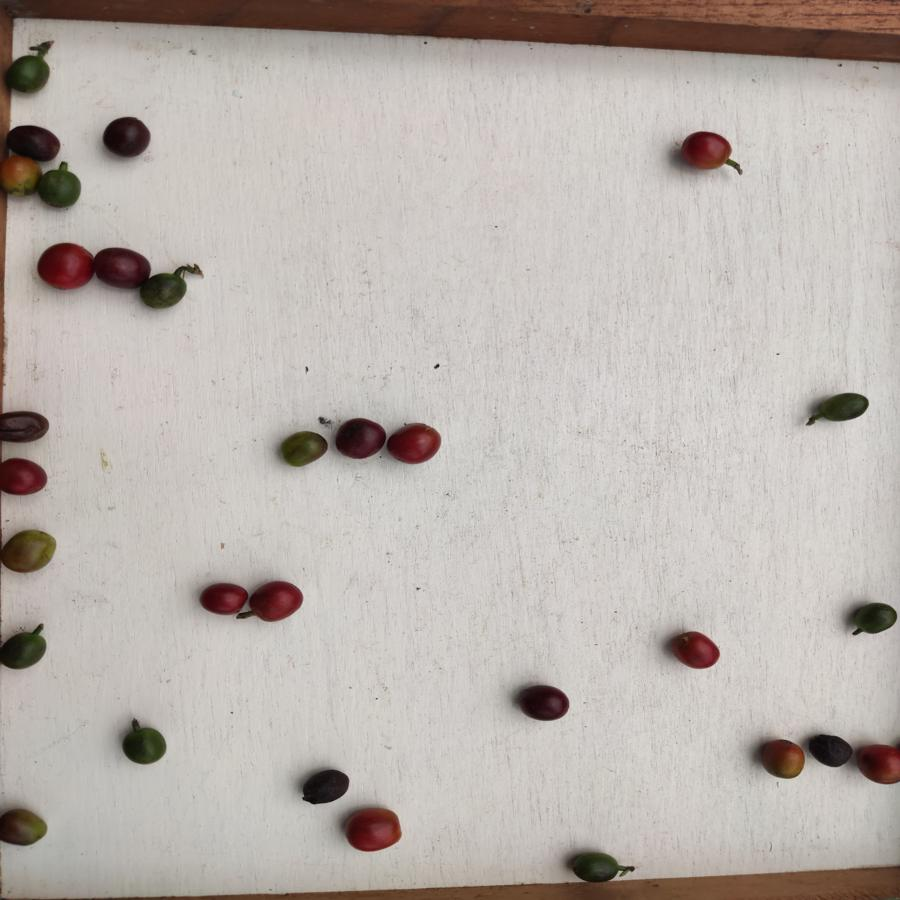Inmaduro: (1, 629, 48, 671), (817, 390, 871, 426), (3, 54, 50, 95), (120, 727, 169, 766), (40, 167, 82, 210), (569, 850, 622, 883), (143, 271, 185, 310), (852, 601, 898, 636)
Maduro: (36, 241, 94, 292), (246, 580, 307, 622), (344, 808, 402, 852), (388, 420, 442, 467), (677, 130, 733, 171), (1, 457, 48, 500), (669, 632, 723, 669), (856, 742, 900, 786), (198, 583, 248, 618)
Pinton: (1, 528, 58, 576), (278, 427, 328, 470), (1, 808, 48, 850), (761, 738, 806, 780), (1, 155, 39, 197)
Sobremaduro: (95, 247, 151, 288), (516, 683, 572, 723), (336, 418, 387, 461), (103, 116, 151, 159), (7, 122, 62, 159), (299, 768, 350, 805), (1, 405, 49, 443), (808, 730, 853, 770)
